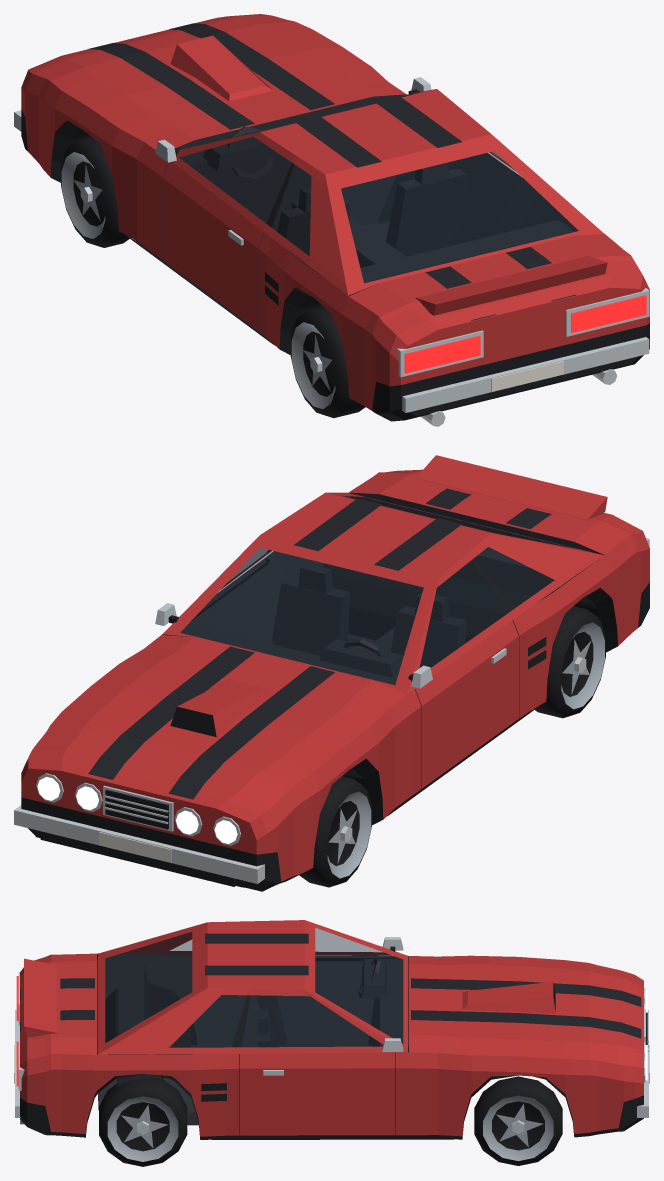
The model's file is muscle.glb.
The picture shows the model from 3 angles, top to bottom: view 1: azimuth 30°, elevation 25°; view 2: azimuth 150°, elevation 25°; view 3: azimuth 270°, elevation 25°; orthographic projection. The views are drawn at different scales.
Parts seen in each view (by area): view 1: Body, DoorL, Wheel_RL, Wheel_FL; view 2: Body, DoorL, Wheel_RL, Wheel_FL, DoorR; view 3: Body, DoorR, Wheel_RR, Wheel_FR, DoorL.
Part boxes in pixels (bbox=[...]): Body: bbox=[14, 14, 649, 426]; DoorL: bbox=[155, 134, 294, 330]; Wheel_RL: bbox=[290, 306, 365, 418]; Wheel_FL: bbox=[61, 136, 130, 247]; Body: bbox=[14, 455, 649, 891]; DoorL: bbox=[408, 554, 518, 788]; Wheel_RL: bbox=[534, 606, 605, 718]; Wheel_FL: bbox=[299, 776, 371, 887]; DoorR: bbox=[155, 548, 269, 625]; Body: bbox=[14, 920, 649, 1139]; DoorR: bbox=[240, 989, 403, 1135]; Wheel_RR: bbox=[99, 1076, 187, 1166]; Wheel_FR: bbox=[474, 1076, 562, 1165]; DoorL: bbox=[315, 937, 403, 961].
Size of the model in its own units: 1.95 by 1.38 by 4.91.
